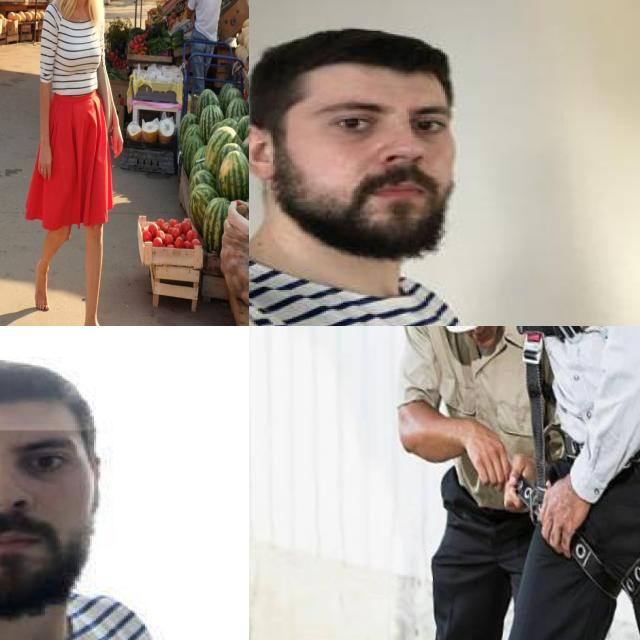Barefoots: (35, 260, 49, 310), (83, 318, 115, 326)
Harness: (518, 326, 592, 502), (572, 533, 640, 600)
No_Ear-Protection: (249, 116, 290, 179)
No_Glasses: (291, 93, 462, 151), (0, 429, 99, 500)
face_nomask: (298, 82, 454, 263), (0, 429, 92, 618)
head_nohelmet: (256, 8, 441, 78), (0, 358, 113, 430)
person: (249, 3, 534, 326)
